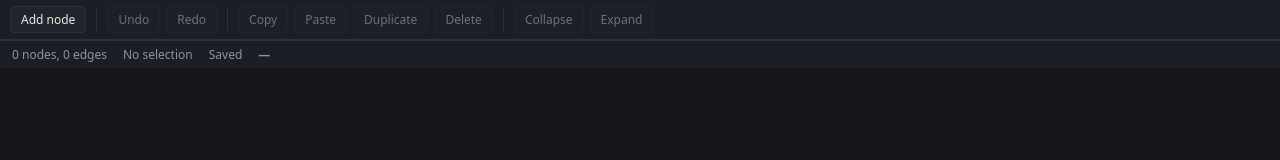
Scenario: EditorToolbar + EditorStatusBar › Undo/Redo buttons enable with history and reverse an add
The width and height of the screenshot is (1280, 160).
Expected: the button "Undo" is disabled, [107,6,160,33]
Expected: the button "Redo" is disabled, [166,6,217,33]
Click the button "Add node": (48, 20) [10,6,86,33]
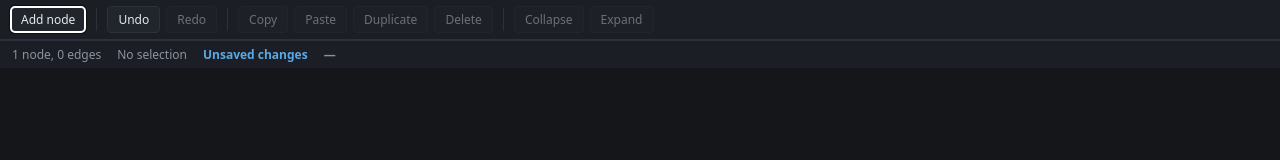
Expected: the button "Undo" is enabled
Click the button "Undo": (134, 20) [107,6,160,33]
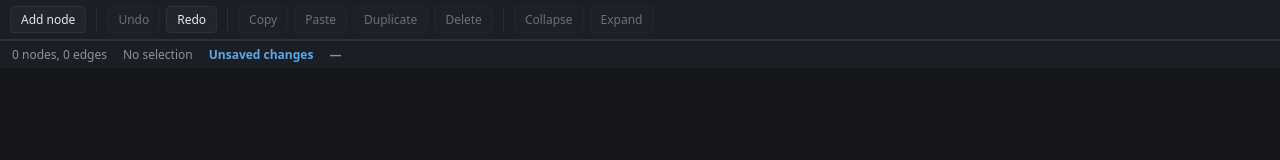
Expected: the text with test id "status-counts" shows "0 nodes", [12,46,107,63]
Expected: the button "Redo" is enabled
Click the button "Redo": (192, 20) [166,6,217,33]
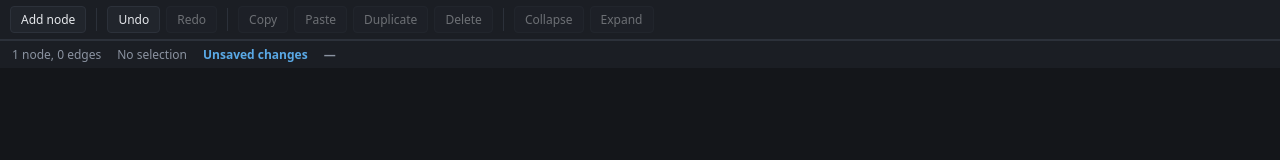
Expected: the text with test id "status-counts" shows "1 node,", [12,46,101,63]
